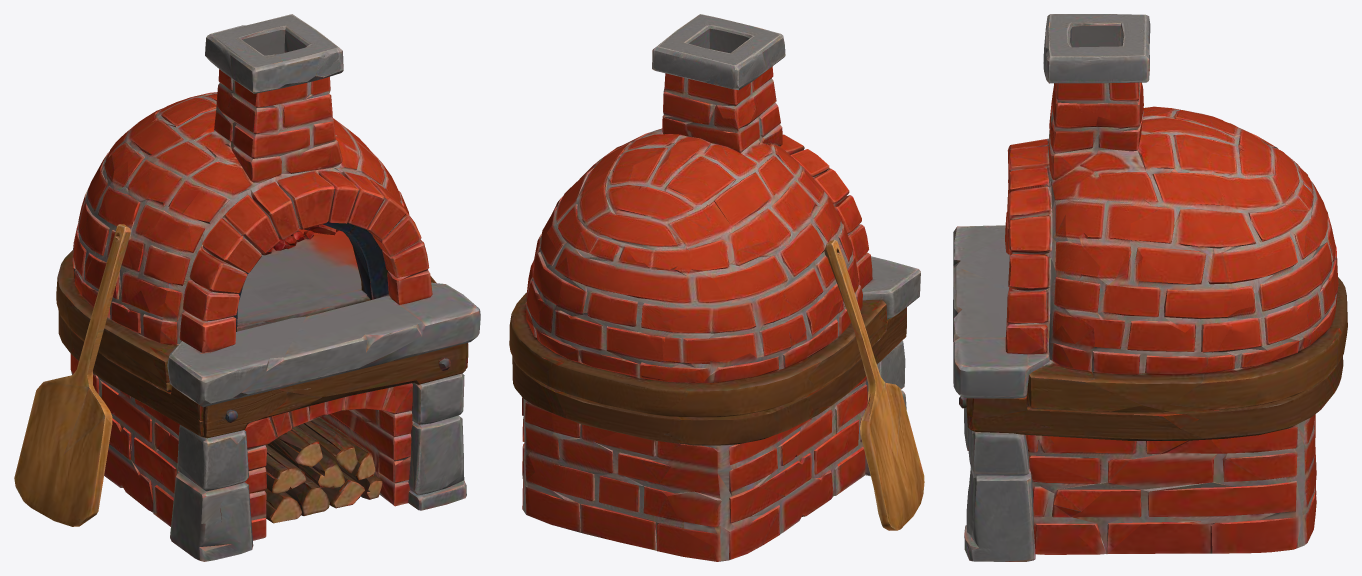
The model's file is p_ovens.glb.
The picture shows the model from 3 angles, left to right: view 1: azimuth 30°, elevation 25°; view 2: azimuth 150°, elevation 25°; view 3: azimuth 270°, elevation 25°; orthographic projection. The views are drawn at different scales.
Size of the model in its own units: 1.66 by 1.9 by 1.48.
1 material, 1 textured.
